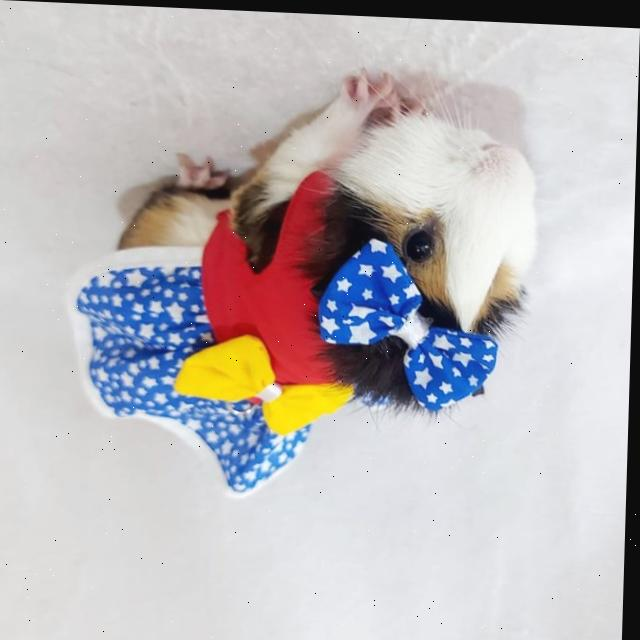guinea pig: (115, 54, 543, 411)
